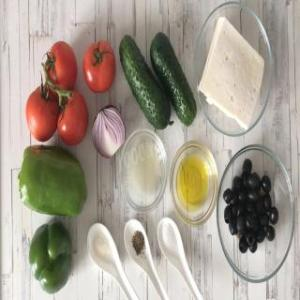bell_pepper: (16, 138, 89, 219), (25, 216, 74, 296)
cucumber: (118, 30, 174, 132), (150, 24, 198, 132)
onion: (92, 103, 126, 161)
tomato: (41, 38, 79, 96), (57, 86, 90, 150), (82, 37, 117, 95), (24, 82, 56, 144)
